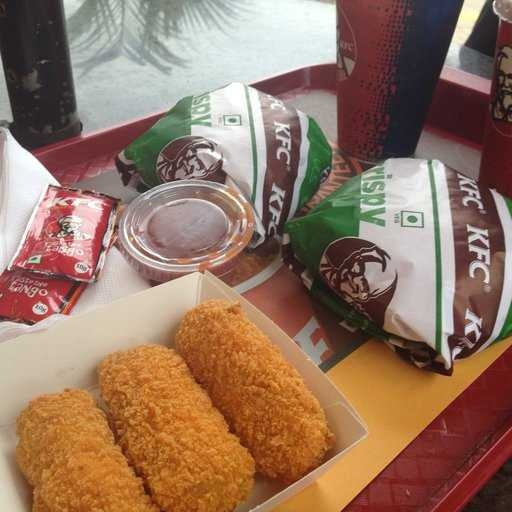hamburger: (282, 162, 511, 346)
